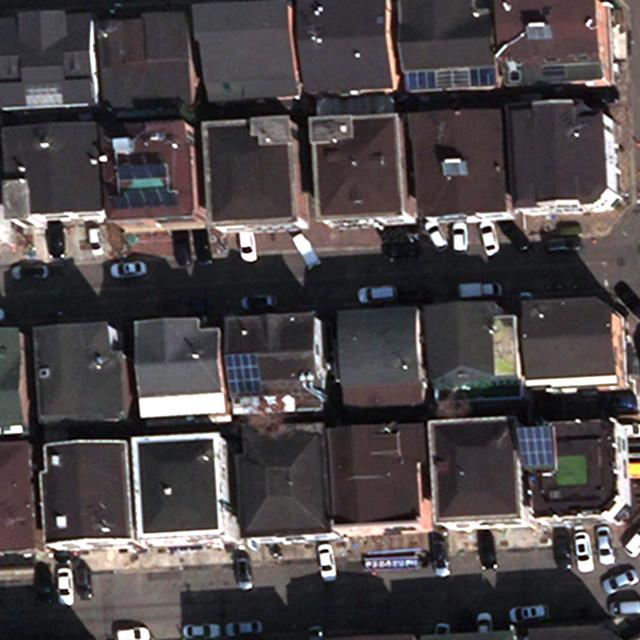solarpanel: (513, 423, 558, 473), (222, 350, 265, 396), (108, 188, 179, 210), (113, 160, 177, 179)
